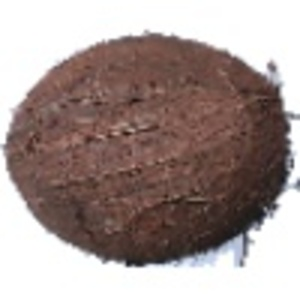coco: (1, 34, 300, 270)
